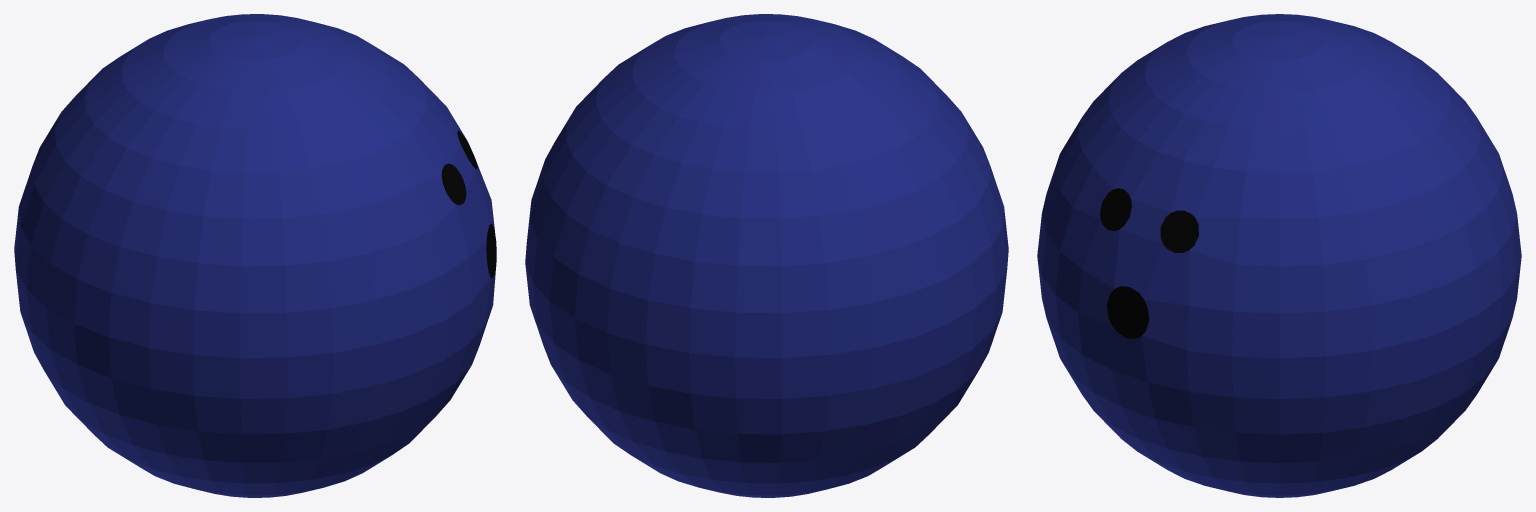
The model's file is Bowling_Ball.fbx.
3 views of the same model, side by side, from view 1: azimuth 30°, elevation 25°; view 2: azimuth 150°, elevation 25°; view 3: azimuth 270°, elevation 25° (orthographic).
Parts seen in each view (by area): view 1: BowlingBall; view 2: BowlingBall; view 3: BowlingBall.
Boxes of the visible parts, box(x1,y1,x2,y2) form: BowlingBall: box(14, 14, 496, 497); BowlingBall: box(525, 14, 1008, 497); BowlingBall: box(1037, 14, 1521, 497).
Size of the model in its own units: 200 by 200 by 200.
